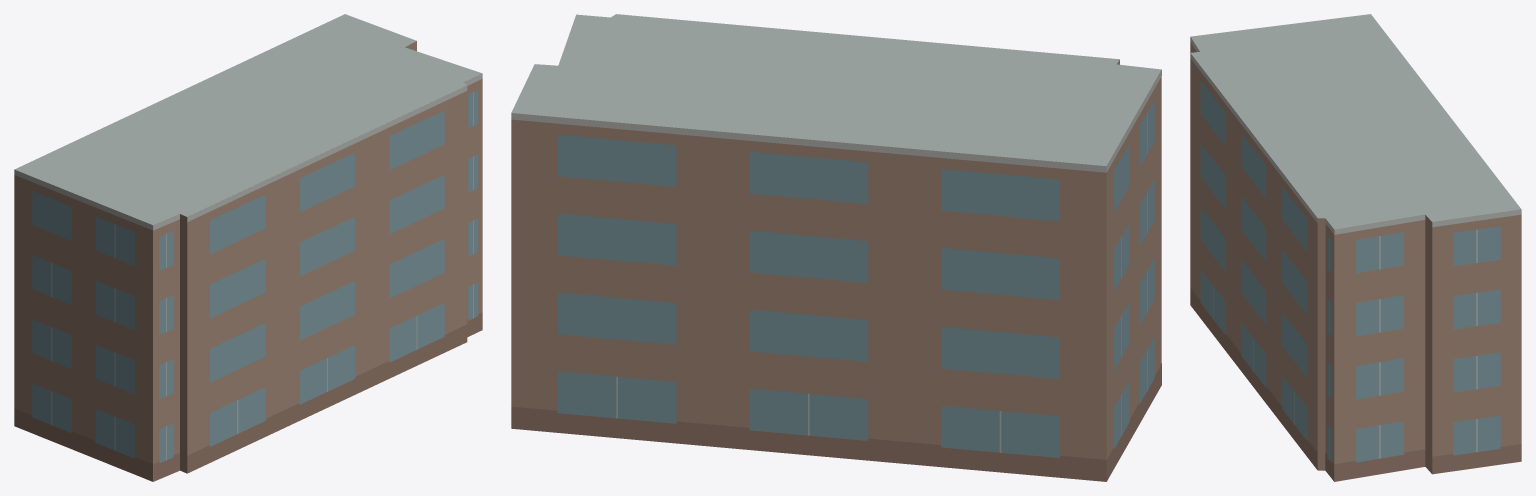
The model's file is survey-upis-32881643.glb.
3 views of the same model, side by side, from view 1: azimuth 30°, elevation 25°; view 2: azimuth 150°, elevation 25°; view 3: azimuth 270°, elevation 25° (orthographic). The views are drawn at different scales.
Parts seen in each view (by area): view 1: survey-upis-32881643.tmp; view 2: survey-upis-32881643.tmp; view 3: survey-upis-32881643.tmp.
Part boxes in pixels (x1,y1,x2,y2): survey-upis-32881643.tmp: [14, 14, 482, 481]; survey-upis-32881643.tmp: [511, 14, 1161, 481]; survey-upis-32881643.tmp: [1190, 14, 1521, 481].
Size of the model in its own units: 21.65 by 11.8 by 14.06.
